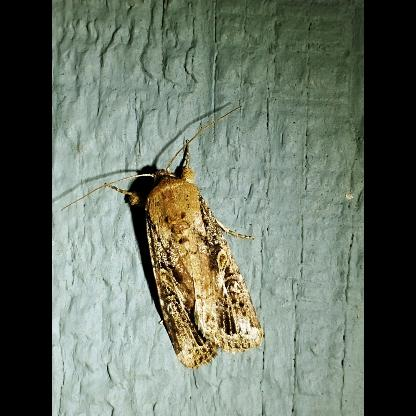Fall Armyworm Moth: (57, 102, 270, 372)
